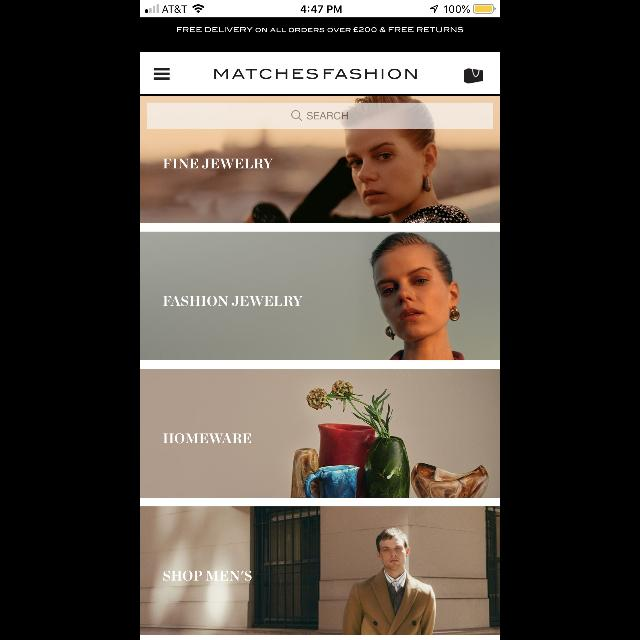icon: (465, 68, 483, 84), (154, 68, 170, 80), (292, 110, 302, 122)
image: (140, 507, 500, 635), (140, 369, 500, 497), (140, 232, 500, 360), (140, 96, 500, 224)
input: (148, 103, 492, 129)
text: (215, 69, 417, 79), (163, 296, 303, 306), (177, 28, 463, 32), (163, 159, 273, 169), (163, 433, 251, 443), (163, 571, 251, 581), (306, 112, 348, 120)
uppertaskbar: (140, 1, 500, 18)
